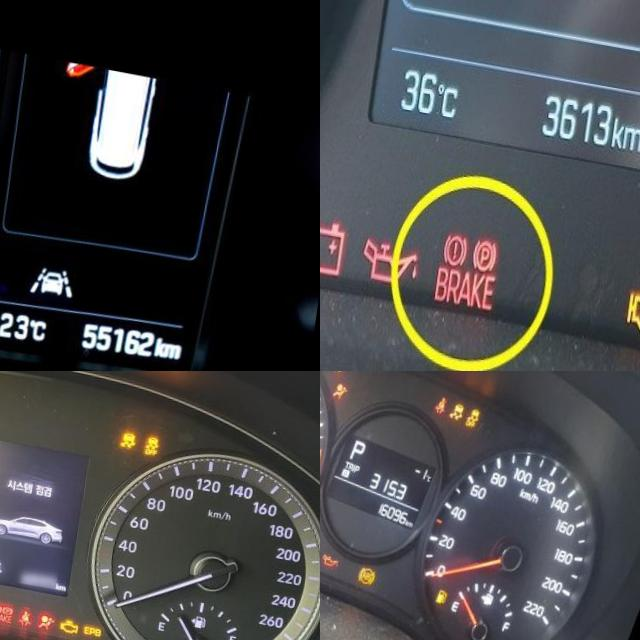LaneCenteringOff: (34, 251, 80, 286)
Low fuel level: (446, 571, 459, 588)
